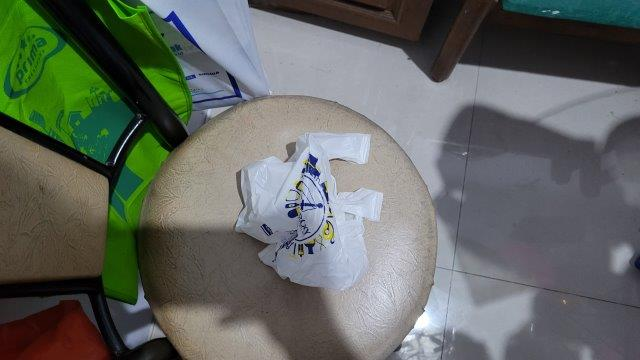plastik: (233, 132, 383, 288)
